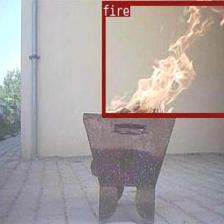fire: (101, 0, 224, 116)
